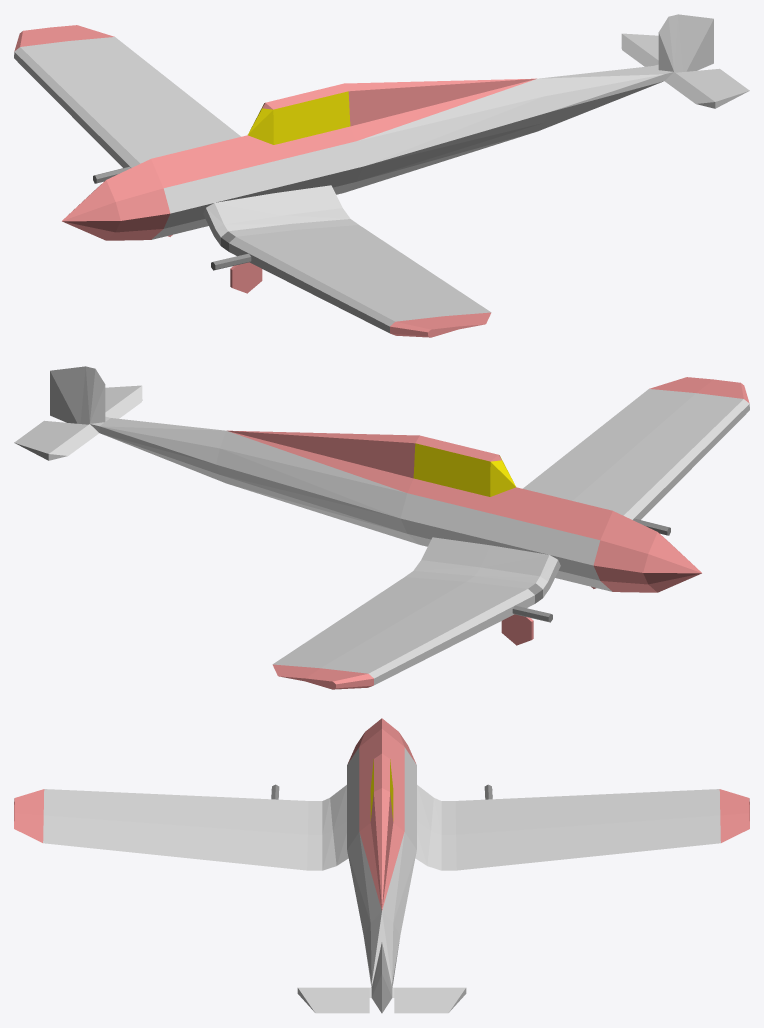
File: PukeFlame.fbx
3 renders of one model, top to bottom at view 1: azimuth 30°, elevation 25°; view 2: azimuth 150°, elevation 25°; view 3: azimuth 270°, elevation 25°, orthographic. The views are drawn at different scales.
Visible parts, largest first — view 1: PukeFlame; view 2: PukeFlame; view 3: PukeFlame.
Boxes of the visible parts, x1,y1,x2,y2 form: PukeFlame: (14,14,749,337); PukeFlame: (14,366,749,689); PukeFlame: (14,718,749,1013).
Size of the model in its own units: 991 by 215 by 1075.
